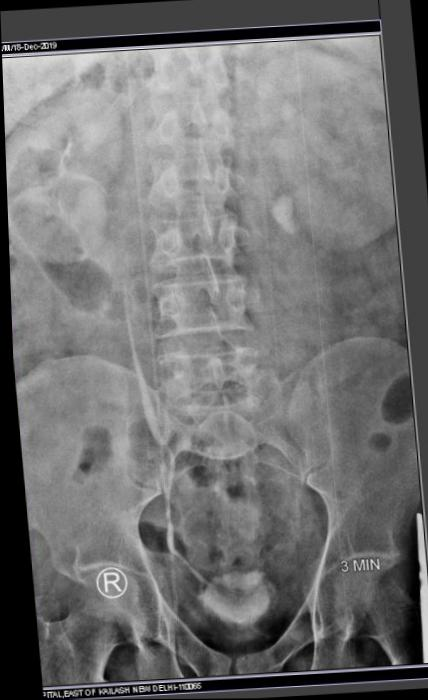bladder: (158, 543, 305, 660)
right kidney: (2, 80, 140, 276)
vertebrae: (143, 94, 237, 154)
